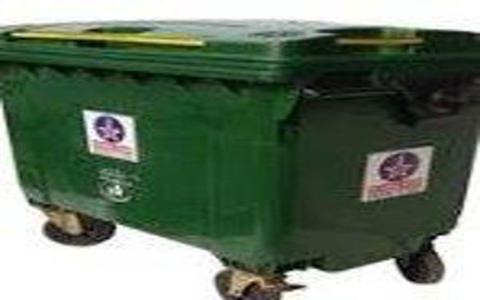Proper garbage: (1, 2, 473, 293)
